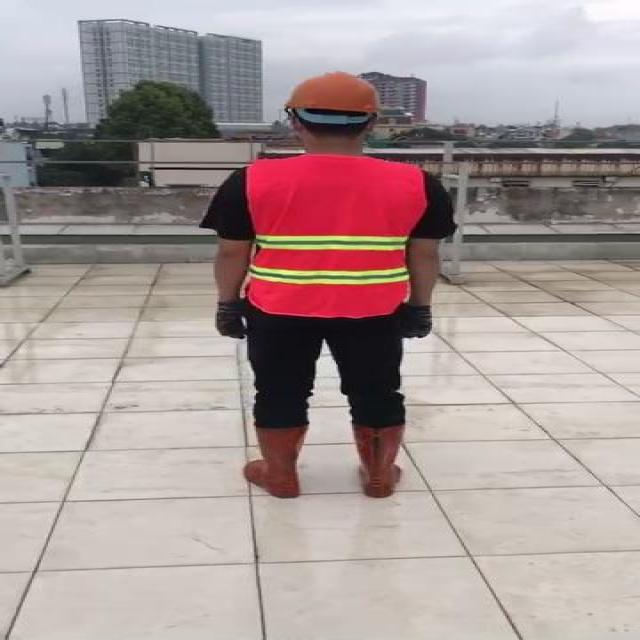boots: (241, 425, 310, 502), (348, 422, 411, 500)
hand_glove: (400, 302, 443, 340), (216, 299, 248, 340)
head_helmet: (281, 70, 386, 118)
person: (199, 70, 455, 503)
vest: (247, 156, 420, 313)
